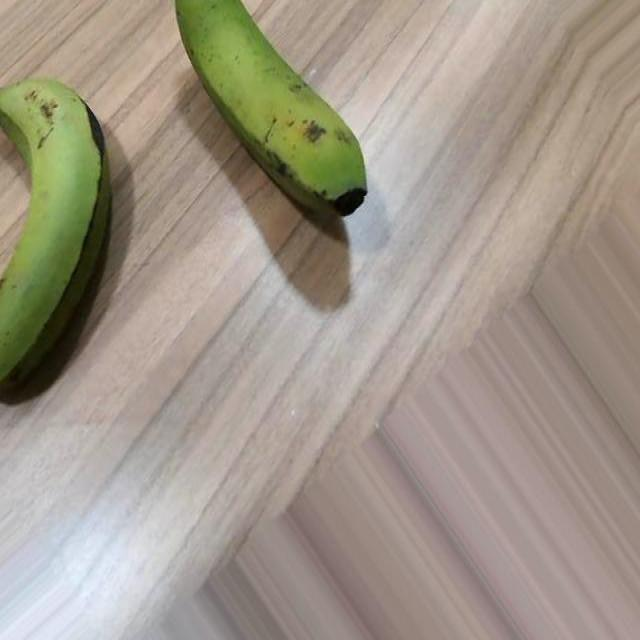Unripe: (173, 0, 368, 223), (0, 76, 113, 394)
